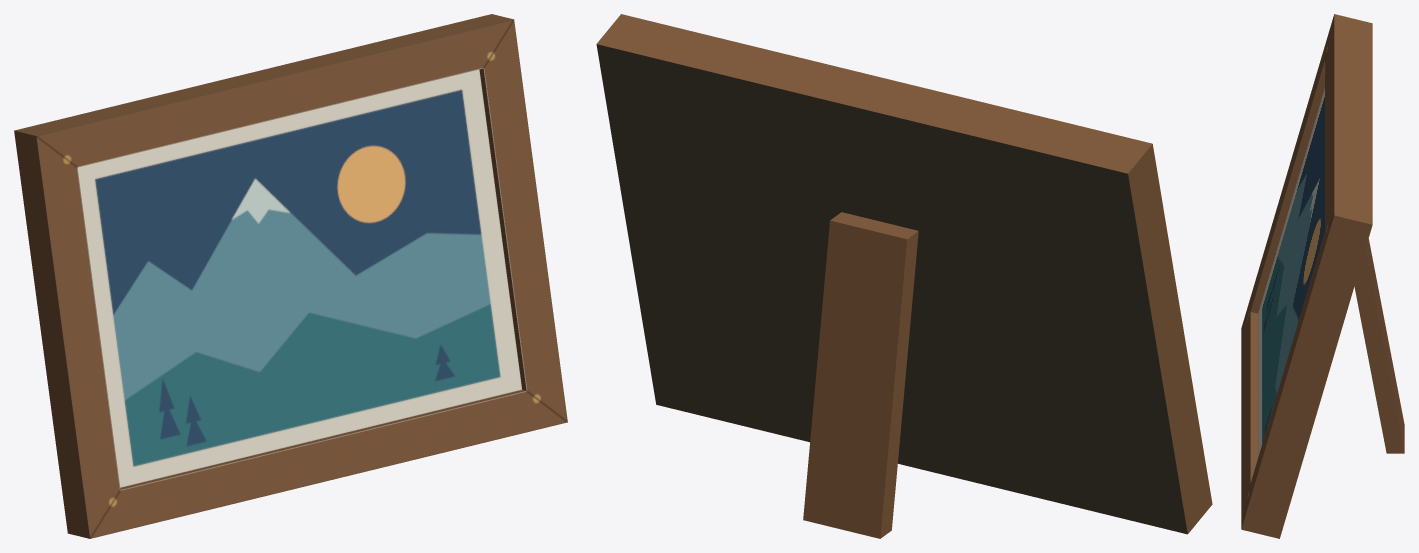
The model's file is MoonFramePlaced.fbx.
3 views of the same model, side by side, from view 1: azimuth 30°, elevation 25°; view 2: azimuth 150°, elevation 25°; view 3: azimuth 270°, elevation 25° (orthographic). The views are drawn at different scales.
Visible parts, largest first — view 1: MoonFramePlaced; view 2: MoonFramePlaced; view 3: MoonFramePlaced.
Boxes of the visible parts, x1,y1,x2,y2 form: MoonFramePlaced: (14, 14, 567, 538); MoonFramePlaced: (596, 14, 1212, 538); MoonFramePlaced: (1241, 14, 1404, 538).
Bounding box in the file's own units: 37.2 × 27.92 × 12.73.
